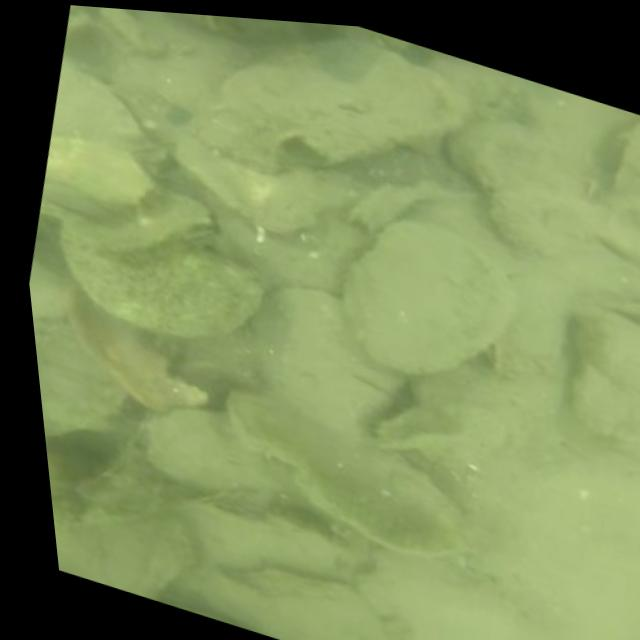Oyster-Closed: (177, 229, 217, 249)
Oyster-Indeterminate: (222, 378, 492, 566), (222, 34, 469, 164), (339, 217, 515, 374), (171, 123, 365, 240), (55, 236, 275, 335), (60, 283, 208, 409), (187, 562, 388, 640), (148, 409, 290, 509), (447, 117, 599, 196), (68, 178, 217, 258), (55, 509, 188, 597), (516, 558, 628, 640), (487, 188, 602, 250), (603, 193, 640, 261)
Oyster-Open: (566, 296, 640, 446)
